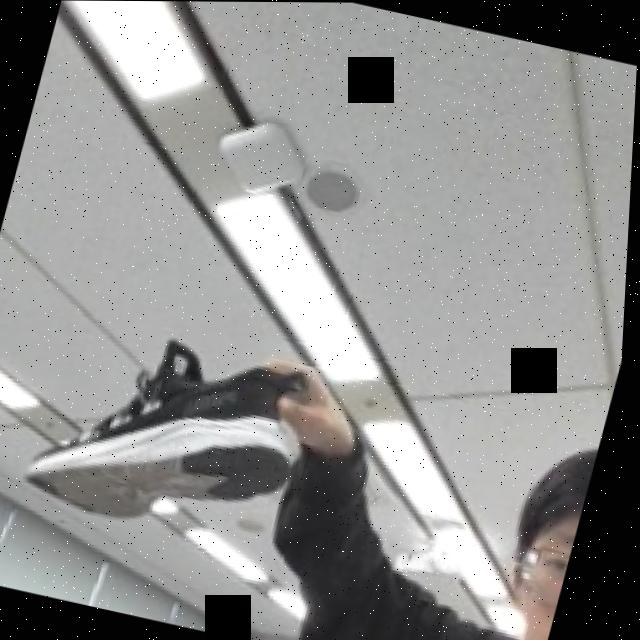shoes: (0, 250, 377, 573)
